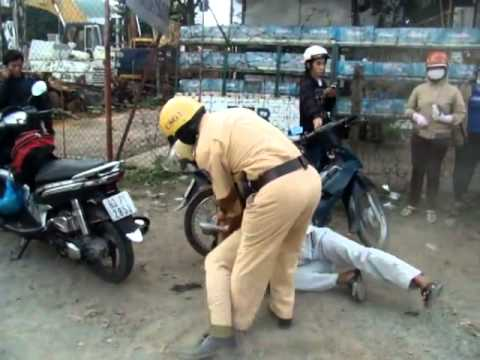police: (150, 97, 330, 344)
